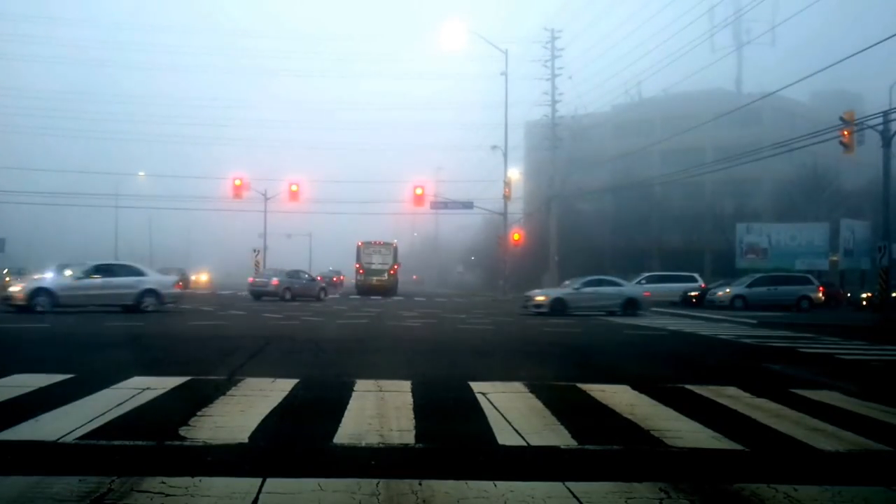bus: (354, 239, 401, 300)
car: (1, 258, 185, 318), (520, 273, 653, 318), (707, 270, 826, 311), (679, 274, 777, 310), (245, 264, 329, 303), (616, 272, 706, 308), (151, 264, 192, 292), (312, 269, 346, 290), (187, 269, 213, 290)
